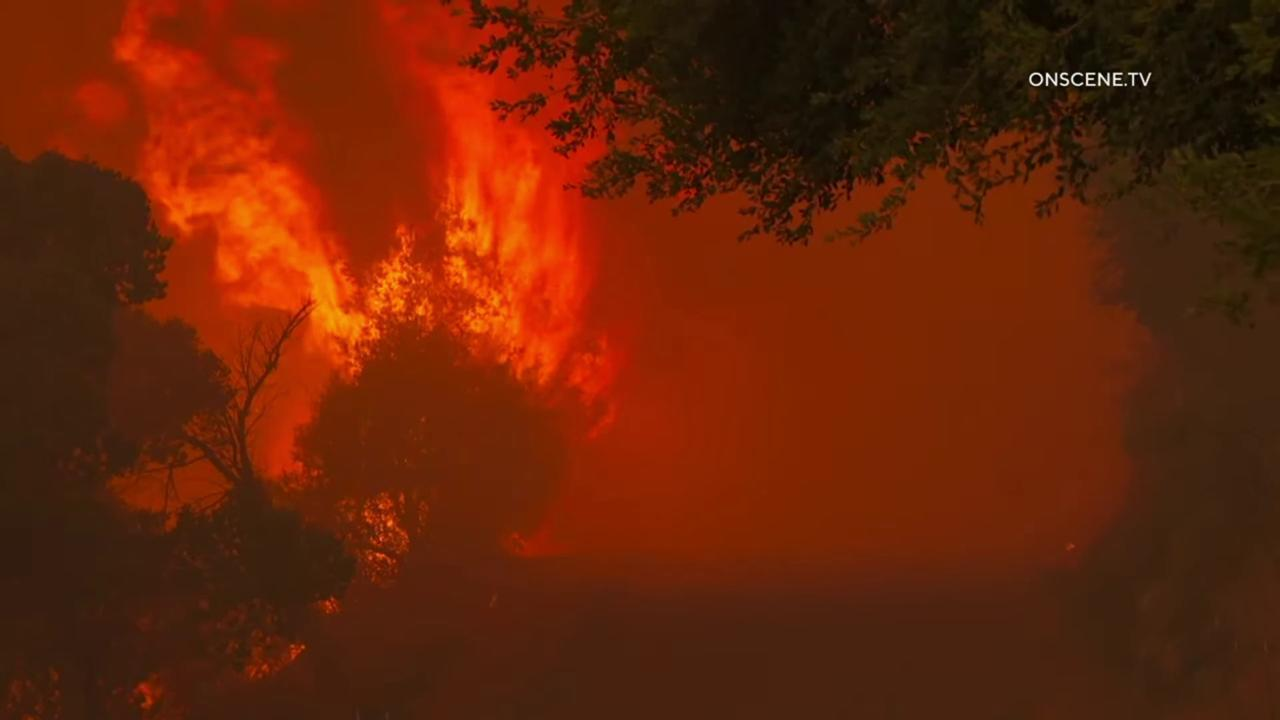fire: (71, 0, 645, 461)
smoke: (0, 0, 1280, 720)
